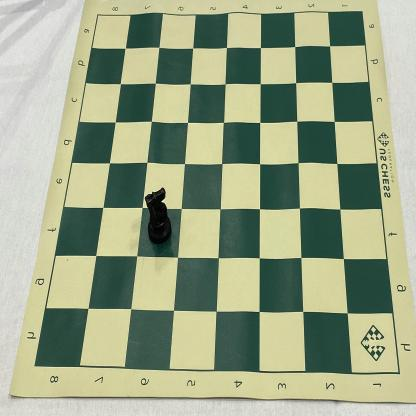black-knight: (144, 187, 172, 247)
